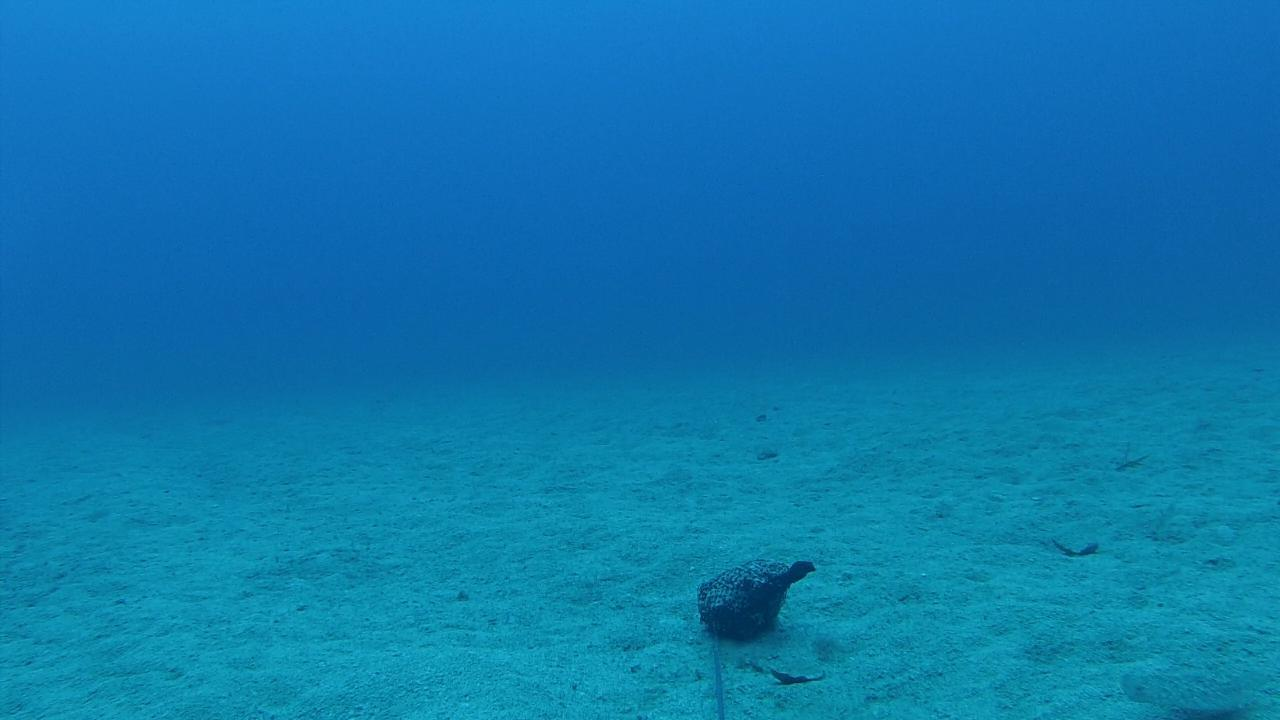bothus: (1118, 674, 1249, 719)
